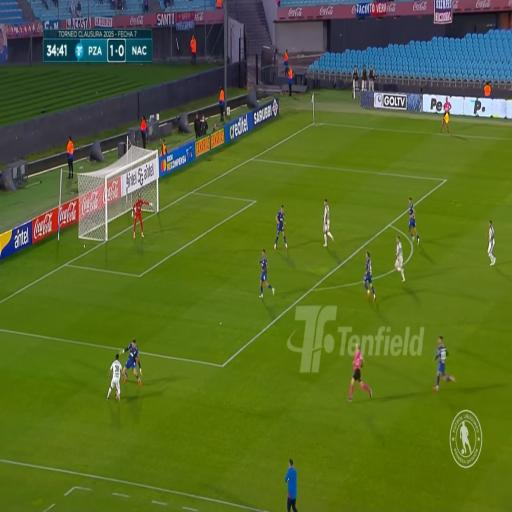Ball: (114, 388, 118, 400)
Goalkeeper: (133, 193, 146, 238)
Player: (436, 331, 450, 391), (361, 250, 376, 305), (123, 337, 140, 384), (321, 198, 335, 252), (108, 354, 123, 398), (260, 246, 272, 301), (485, 218, 498, 268), (407, 192, 419, 245), (394, 233, 406, 283), (273, 206, 285, 247)
Referee: (352, 338, 367, 398), (441, 95, 450, 133)
